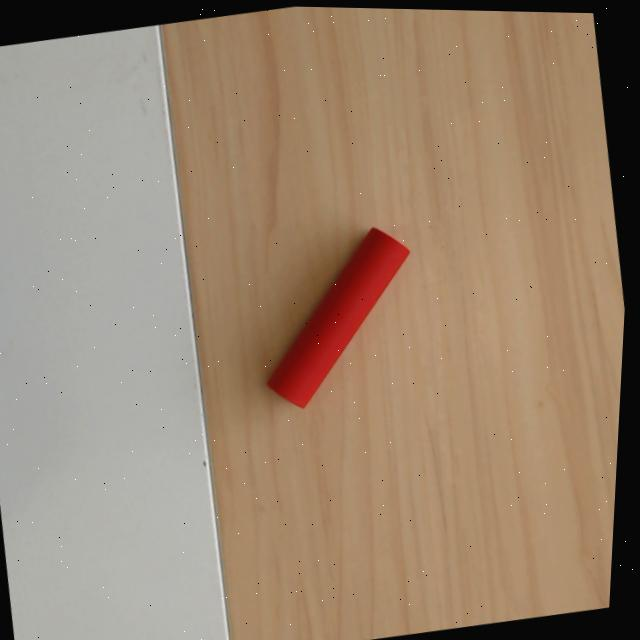Silinder-Merah-10025: (264, 226, 410, 412)
